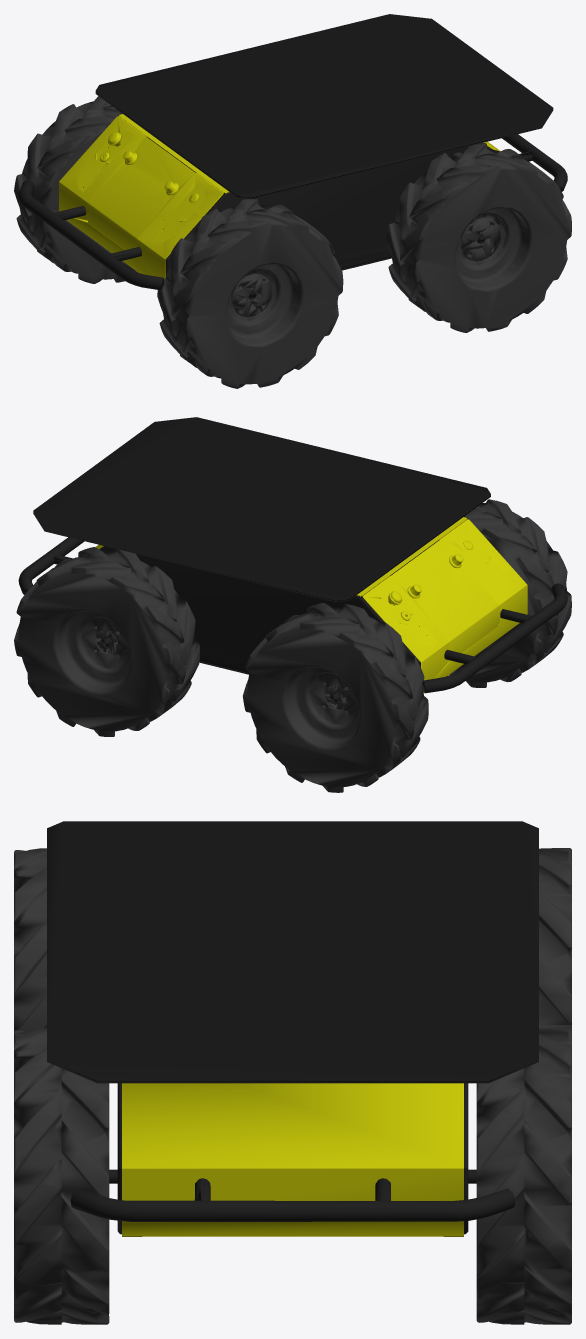
The model's file is husky.glb.
3 renders of one model, top to bottom at view 1: azimuth 30°, elevation 25°; view 2: azimuth 150°, elevation 25°; view 3: azimuth 270°, elevation 25°, orthographic. The views are drawn at different scales.
Parts seen in each view (by area): view 1: wheel, deck_dark, deck, chassis; view 2: wheel, deck_dark, deck, chassis; view 3: deck_dark, wheel, deck, chassis.
Part boxes in pixels (x1,y1,x2,y2): wheel: (14,96,571,388); deck_dark: (95,14,553,199); deck: (59,114,500,278); chassis: (18,113,567,299); wheel: (14,499,571,792); deck_dark: (33,417,490,602); deck: (95,517,527,692); chassis: (18,516,567,702); deck_dark: (47,821,538,1083); wheel: (14,848,571,1324); deck: (122,1083,463,1236); chassis: (70,1083,515,1236).
Size of the model in its own units: 0.985 by 0.3963 by 0.6693.
